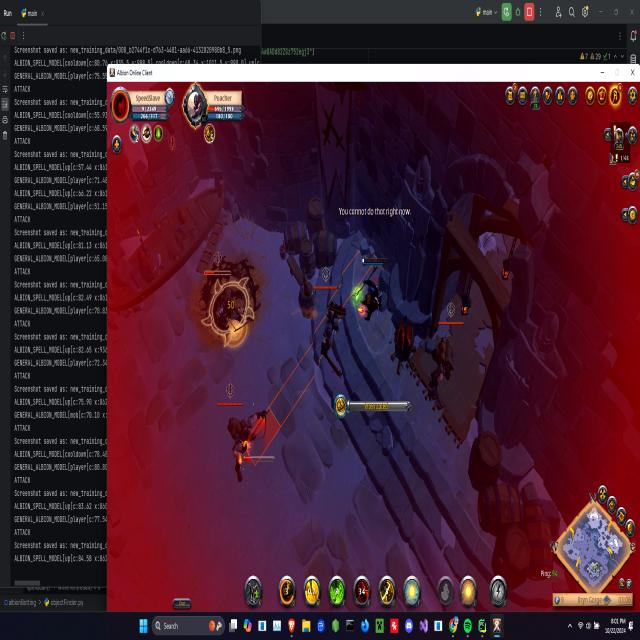ore: (202, 247, 256, 351), (216, 398, 274, 474), (312, 262, 348, 379), (428, 315, 466, 387)
red: (355, 250, 388, 321)
silver: (236, 237, 382, 476)
